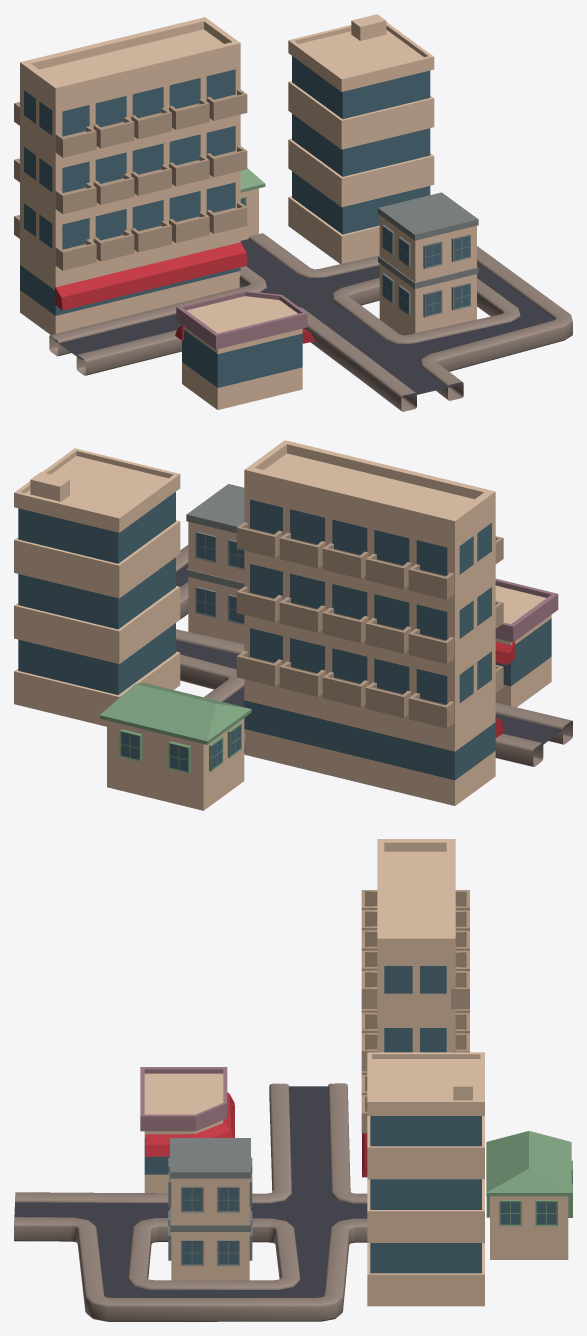
3 renders of one model, top to bottom at view 1: azimuth 30°, elevation 25°; view 2: azimuth 150°, elevation 25°; view 3: azimuth 270°, elevation 25°, orthographic. The views are drawn at different scales.
Visible parts, largest first — view 1: road.004, tall building.005, apt.002, apartment.002, corner store.002, house.026, house.027, Cube.019, Cube.015, Cube.017, house.029, house.028 (+7 smaller); view 2: tall building.005, apt.002, apartment.002, house.026, house.027, road.004, house.030, corner store.002, Cube.020, Cube.018, Cube.016, 1 story.004 (+7 smaller); view 3: road.004, tall building.005, apt.002, corner store.002, 1 story.004, house.030, house.029, 2 story.003, house.027, house.028, Cube.019, Cube.020 (+6 smaller).
Boxes of the visible parts, x1,y1,x2,y2 form: road.004: [49, 233, 572, 411]; tall building.005: [288, 14, 434, 263]; apt.002: [20, 17, 240, 160]; apartment.002: [20, 229, 247, 334]; corner store.002: [175, 290, 315, 409]; house.026: [20, 171, 240, 273]; house.027: [20, 114, 240, 213]; Cube.019: [55, 89, 247, 157]; Cube.015: [55, 202, 247, 270]; Cube.017: [55, 146, 247, 214]; house.029: [379, 215, 476, 301]; house.028: [379, 264, 476, 335]; tall building.005: [14, 448, 180, 726]; apt.002: [244, 440, 495, 602]; apartment.002: [244, 681, 503, 805]; house.026: [244, 615, 495, 732]; house.027: [244, 550, 495, 667]; road.004: [176, 545, 572, 766]; house.030: [107, 718, 244, 810]; corner store.002: [495, 578, 558, 707]; Cube.020: [236, 522, 454, 599]; Cube.018: [236, 586, 454, 663]; Cube.016: [236, 651, 454, 728]; 1 story.004: [99, 682, 251, 744]; road.004: [14, 1083, 367, 1321]; tall building.005: [367, 1052, 484, 1306]; apt.002: [377, 839, 455, 1018]; corner store.002: [140, 1067, 234, 1193]; 1 story.004: [486, 1131, 571, 1196]; house.030: [490, 1196, 568, 1259]; house.029: [171, 1178, 249, 1245]; 2 story.003: [170, 1138, 250, 1178]; house.027: [377, 1009, 455, 1052]; house.028: [171, 1232, 249, 1280]; Cube.019: [361, 890, 377, 1008]; Cube.020: [451, 890, 469, 1009].
Size of the model in its own units: 107 by 64 by 114.
